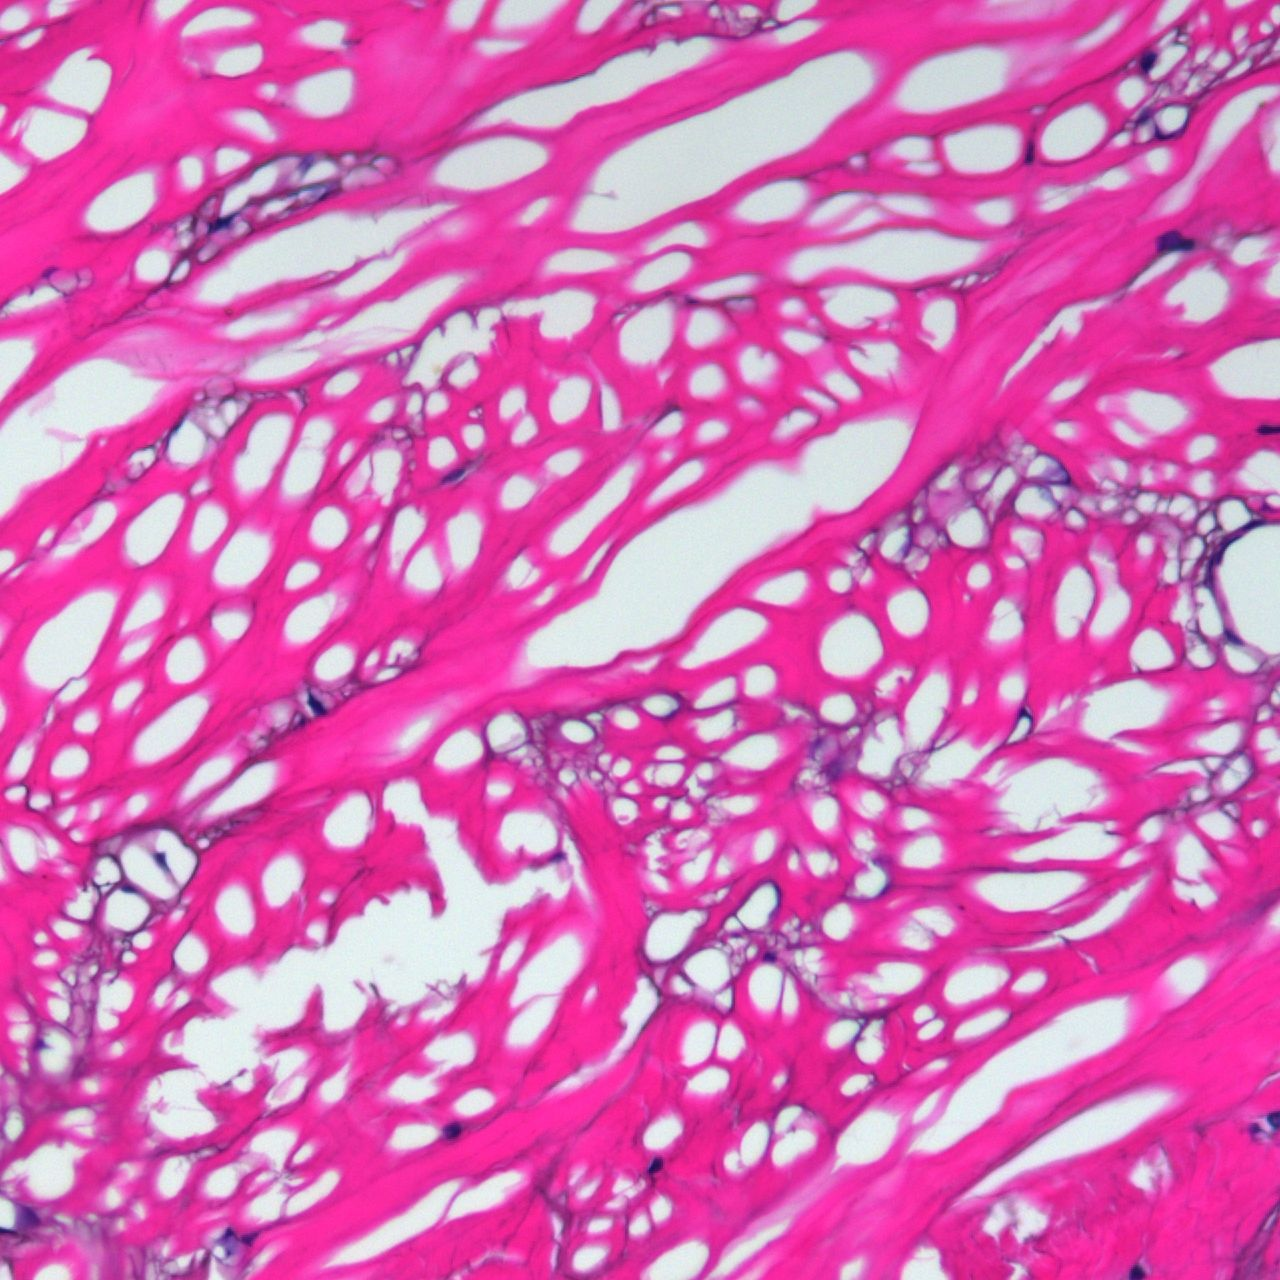nucleus-HE: (200, 202, 246, 241), (300, 683, 330, 721), (1216, 621, 1247, 652), (1155, 230, 1193, 252), (440, 460, 468, 489), (148, 845, 174, 875), (1131, 104, 1154, 128), (215, 1223, 237, 1245), (441, 1120, 463, 1141), (1240, 514, 1264, 533), (545, 849, 568, 867), (1140, 48, 1156, 71), (240, 1229, 259, 1247), (1204, 557, 1215, 587), (1023, 138, 1035, 165), (1016, 704, 1035, 721), (1255, 423, 1279, 436), (648, 1155, 664, 1173), (1265, 1110, 1279, 1128), (762, 949, 778, 964), (1249, 1123, 1261, 1134)
